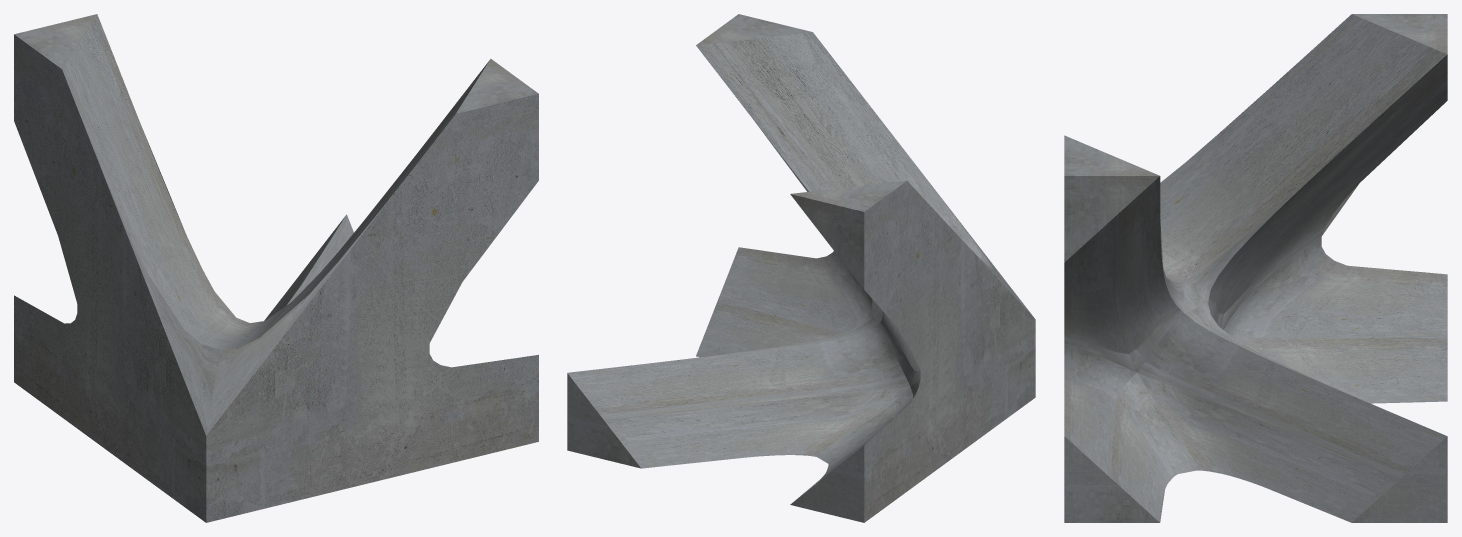
The model's file is module_S2.fbx.
3 views of the same model, side by side, from view 1: azimuth 30°, elevation 25°; view 2: azimuth 150°, elevation 25°; view 3: azimuth 270°, elevation 25° (orthographic). The views are drawn at different scales.
Parts seen in each view (by area): view 1: modules; view 2: modules; view 3: modules.
Part boxes in pixels (x1,y1,x2,y2): modules: (14, 14, 538, 522); modules: (567, 14, 1035, 522); modules: (1064, 14, 1447, 522).
Size of the model in its own units: 1000 by 1000 by 1000.
Materials: 1 (1 with a texture image).
